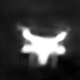plane: (16, 21, 71, 67)
